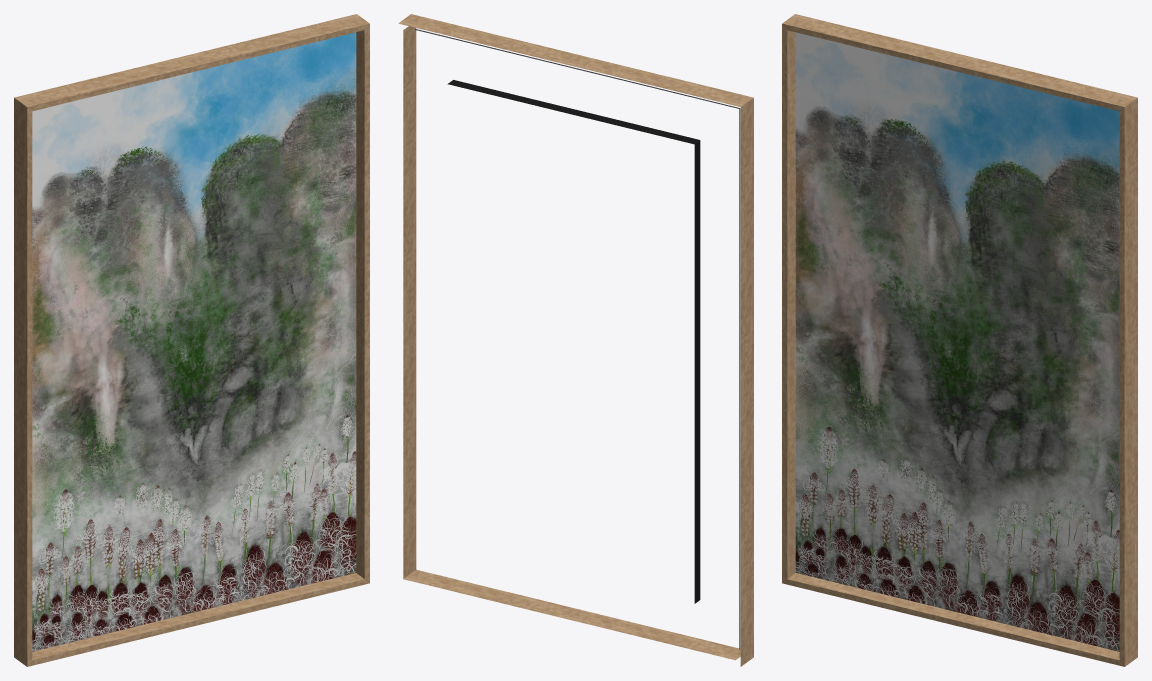
File: os029_moyen_caisse-chene.glb
3 views of the same model, side by side, from view 1: azimuth 30°, elevation 25°; view 2: azimuth 150°, elevation 25°; view 3: azimuth 330°, elevation 25° (orthographic).
Parts seen in each view (by area): view 1: os029_moyen_caisse-chene; view 2: os029_moyen_caisse-chene; view 3: os029_moyen_caisse-chene.
Part boxes in pixels (x1,y1,x2,y2): os029_moyen_caisse-chene: [14, 14, 369, 666]; os029_moyen_caisse-chene: [398, 14, 753, 666]; os029_moyen_caisse-chene: [782, 14, 1137, 666].
Size of the model in its own units: 0.5304 by 0.828 by 0.035.
4 materials, 2 textured.
